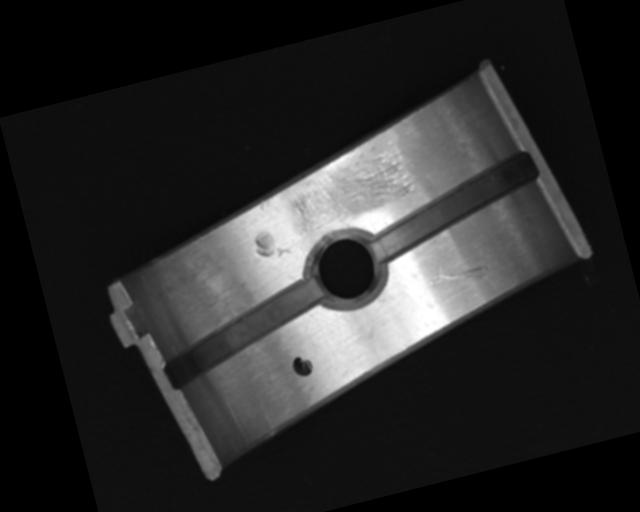blot: (290, 353, 315, 379)
bruise: (251, 224, 293, 263), (256, 194, 275, 211)
gap: (152, 274, 335, 393), (359, 150, 547, 263)
hole: (299, 219, 395, 318)
nick: (428, 260, 490, 291)
scratch: (274, 136, 423, 240)
